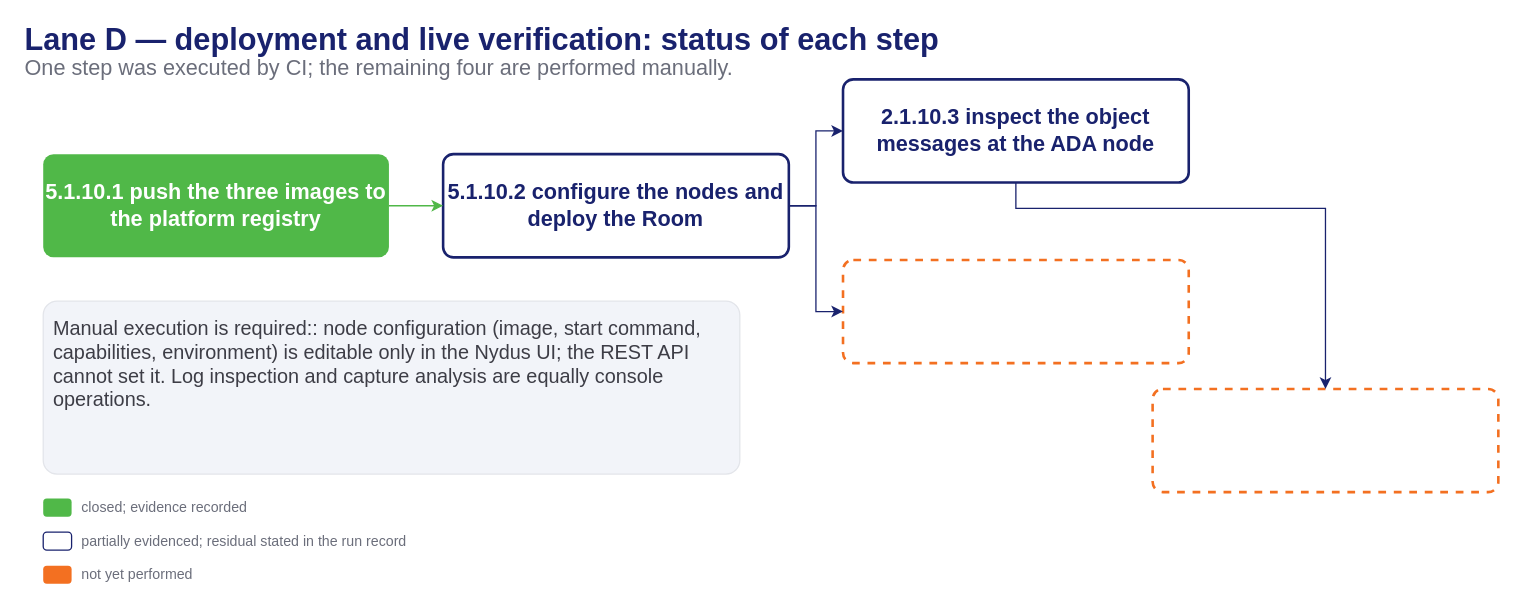
Some shapes in this 1530 by 610 pixel diagram are drawn without their labels. Here are the shapes that lost their labels. From the top down, the centre of each, then its label:
(x=1015, y=311): 6.1.10.5 retrieve the capture and open it in Wireshark
(x=1325, y=440): 11.1.10.4 reconfigure the scenario, compare the two runs
